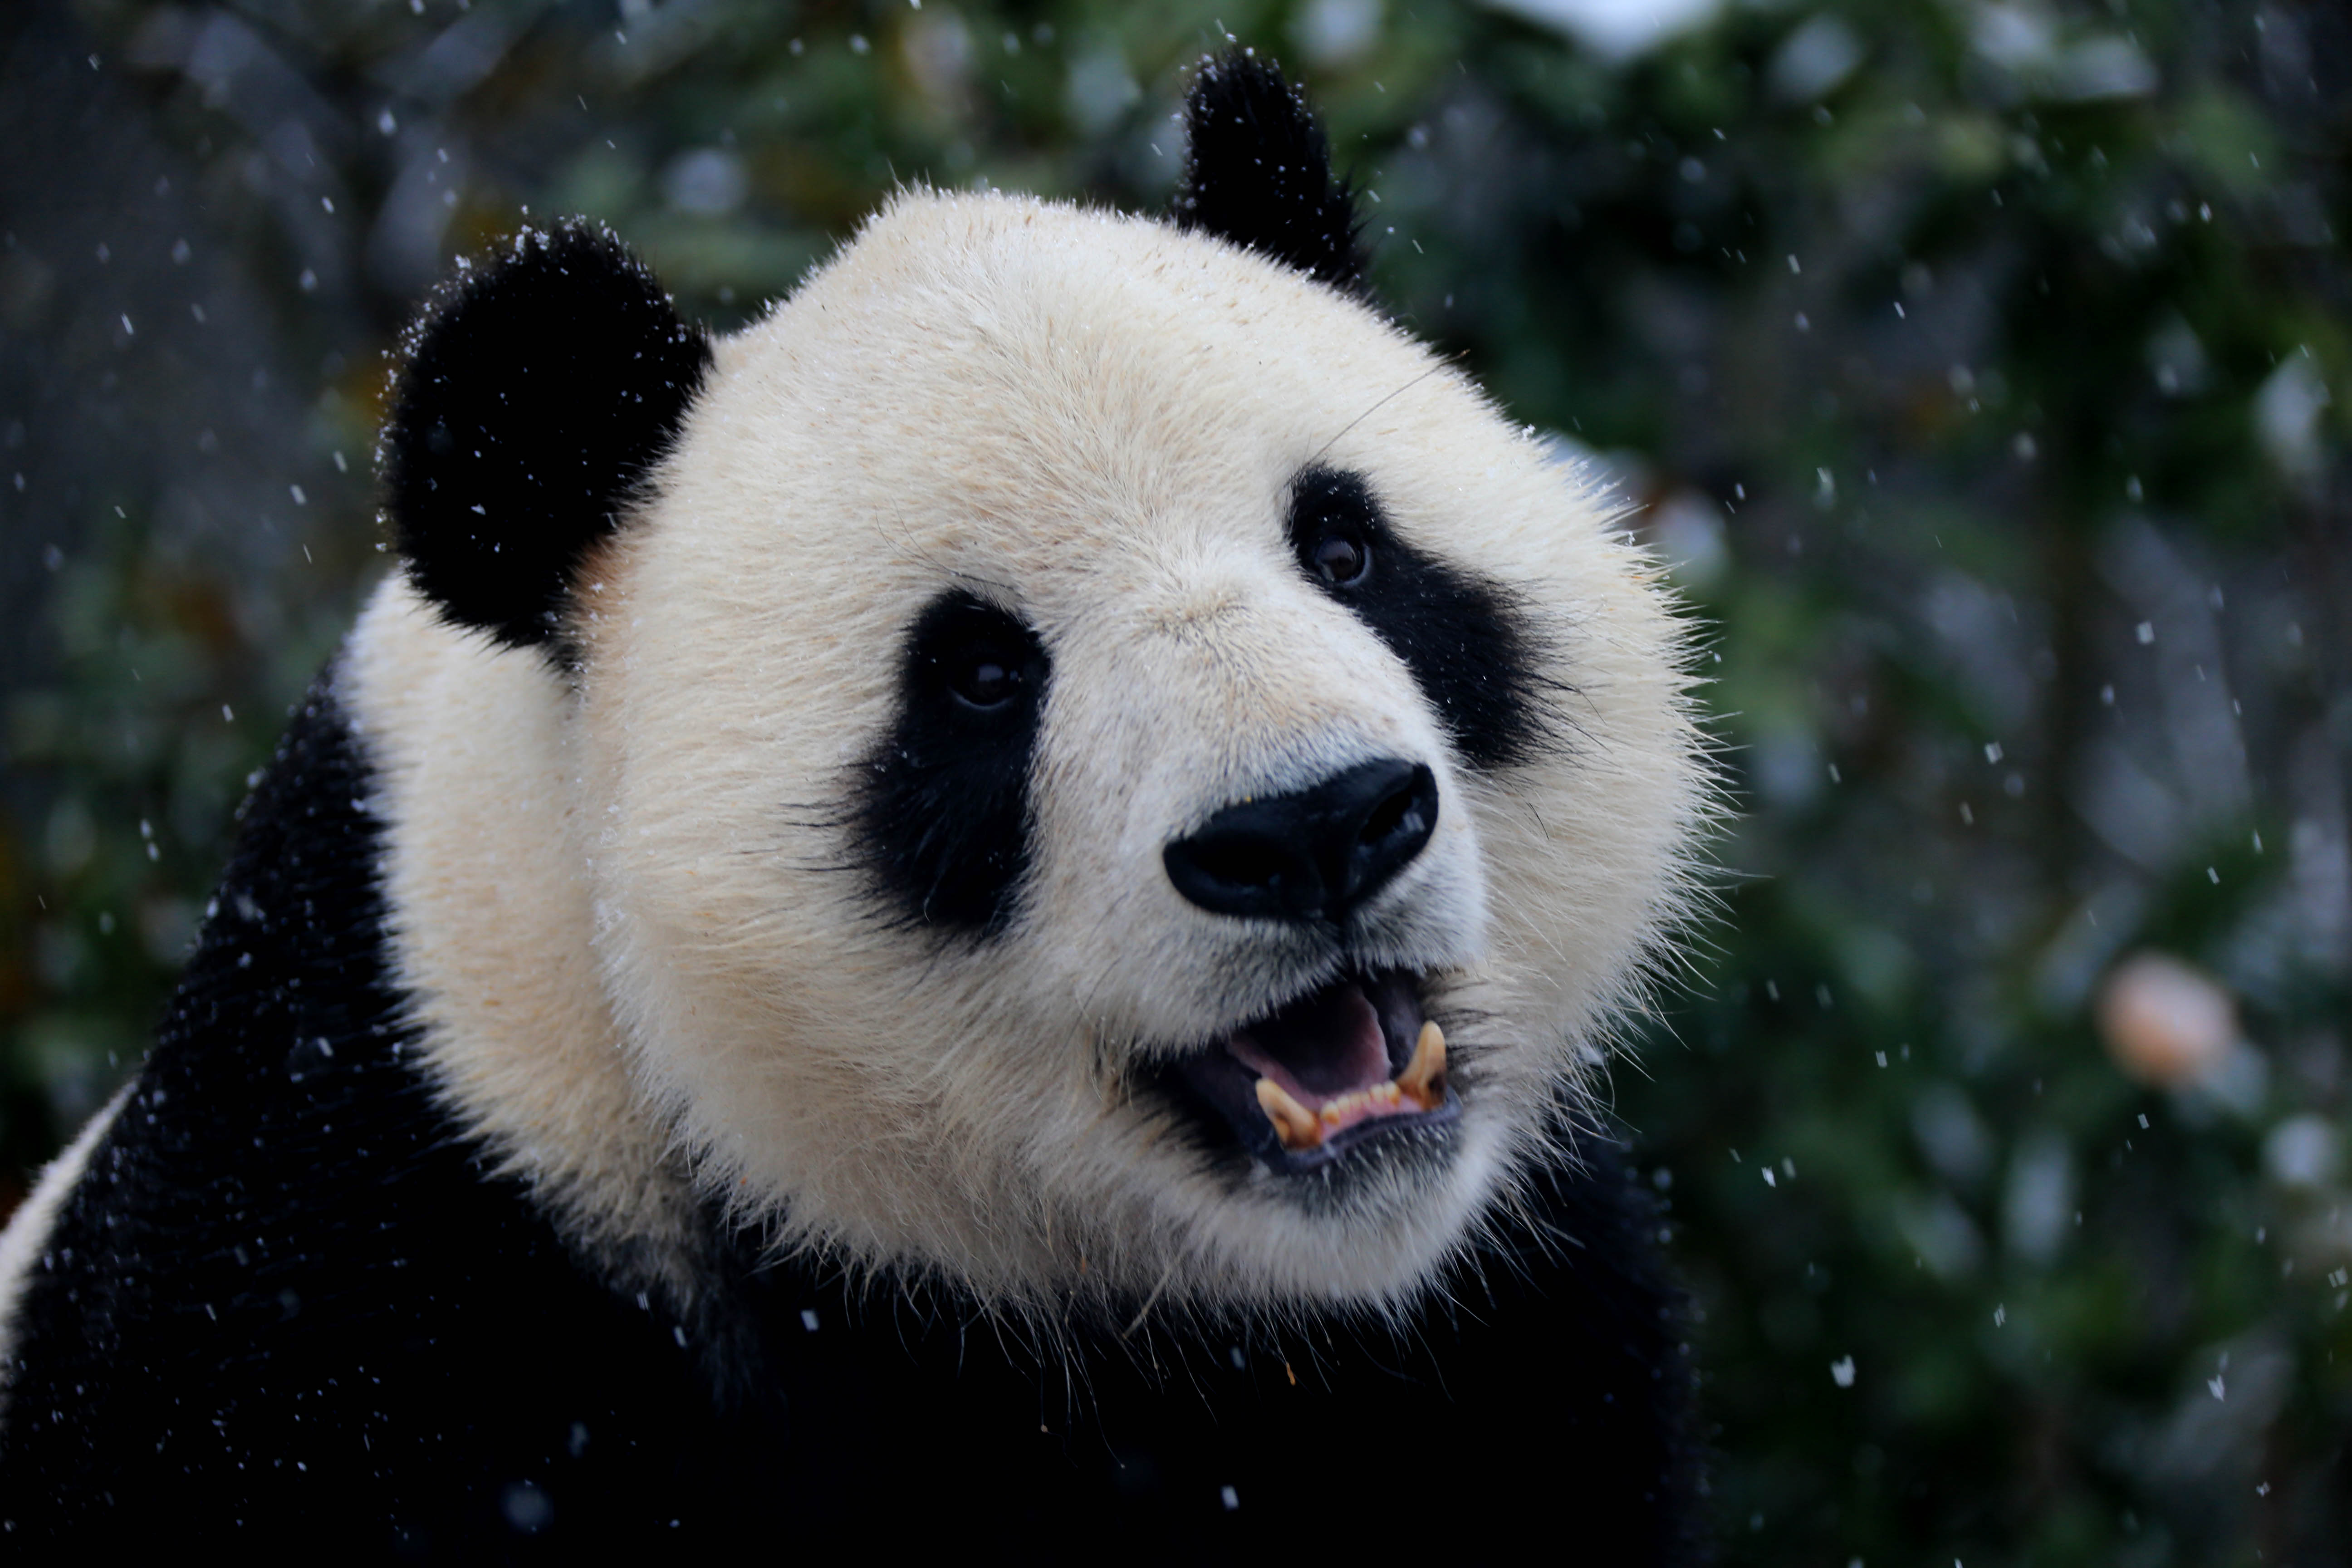panda: (131, 73, 1727, 1477)
